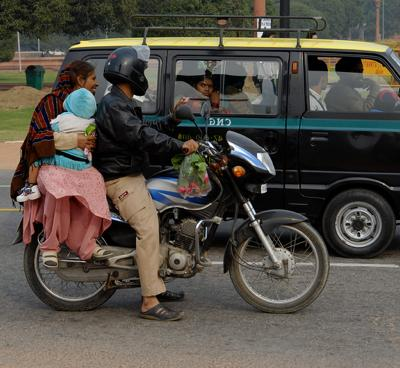With Helmet: (101, 45, 154, 96)
